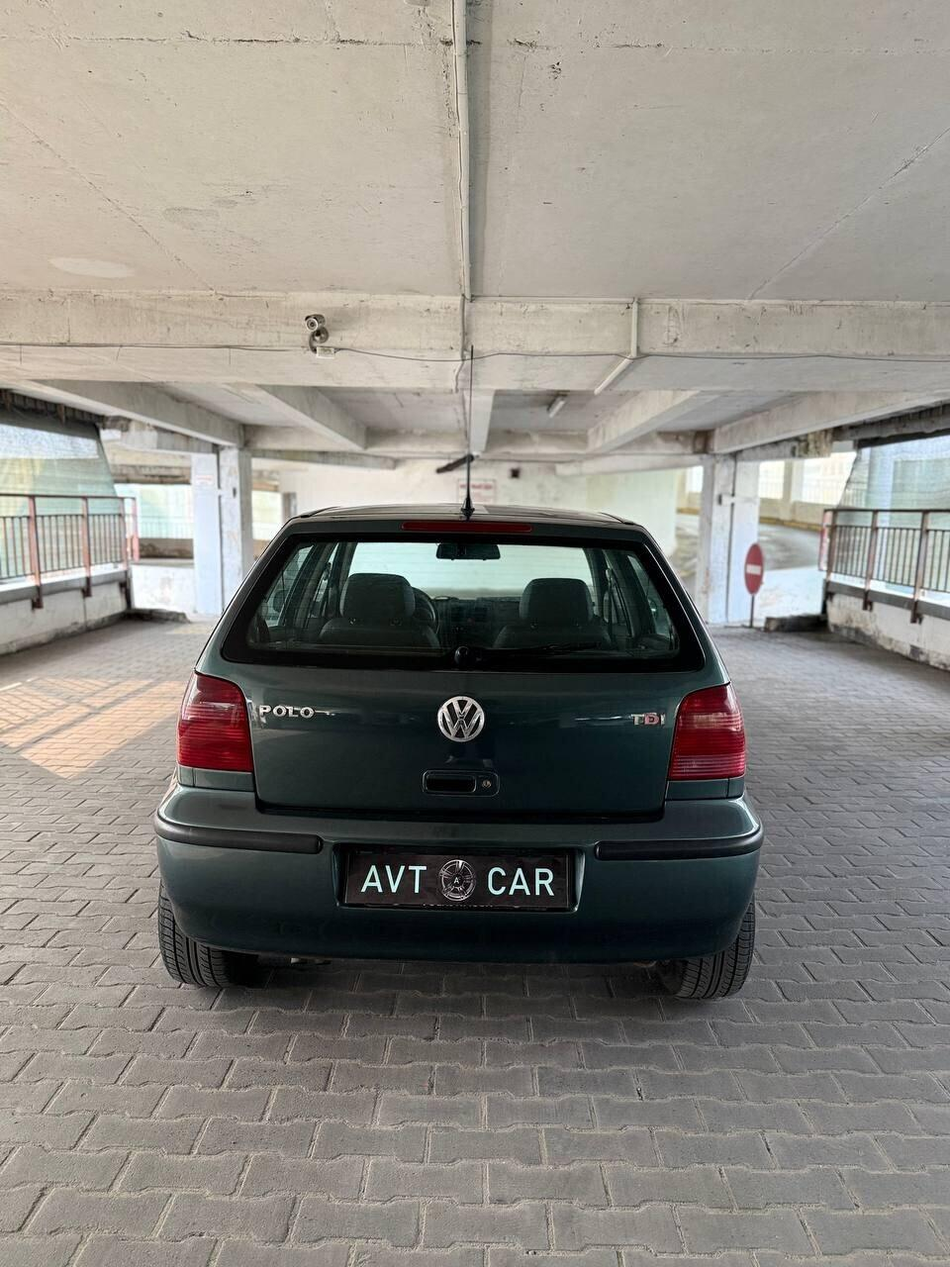Polo_2000-2002: (139, 493, 780, 1049)
